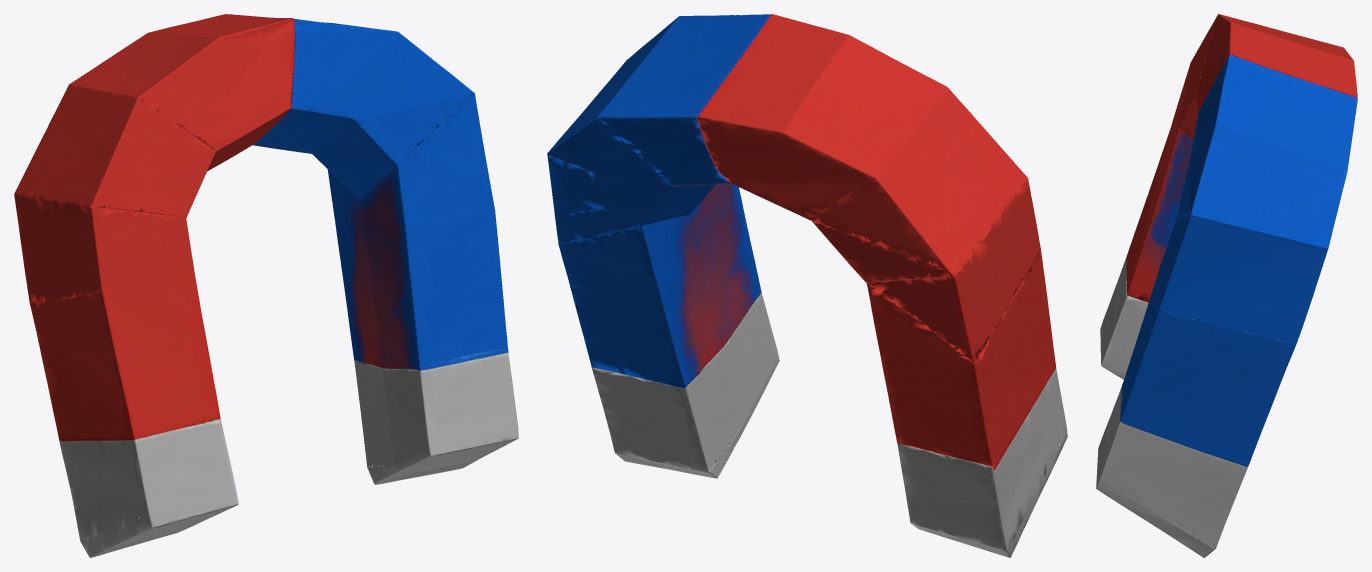
Rendered from 자석 배터리.glb.
3 views of the same model, side by side, from view 1: azimuth 30°, elevation 25°; view 2: azimuth 150°, elevation 25°; view 3: azimuth 270°, elevation 25° (orthographic). The views are drawn at different scales.
Visible parts, largest first — view 1: tripo_node_e05066ec-e533-4cf9-858d-92b497fef645; view 2: tripo_node_e05066ec-e533-4cf9-858d-92b497fef645; view 3: tripo_node_e05066ec-e533-4cf9-858d-92b497fef645.
Part boxes in pixels (bbox=[...]): tripo_node_e05066ec-e533-4cf9-858d-92b497fef645: bbox=[14, 14, 518, 557]; tripo_node_e05066ec-e533-4cf9-858d-92b497fef645: bbox=[547, 14, 1067, 557]; tripo_node_e05066ec-e533-4cf9-858d-92b497fef645: bbox=[1096, 14, 1357, 557].
Size of the model in its own units: 0.8539 by 0.9798 by 0.5334.
1 material, 1 textured.
